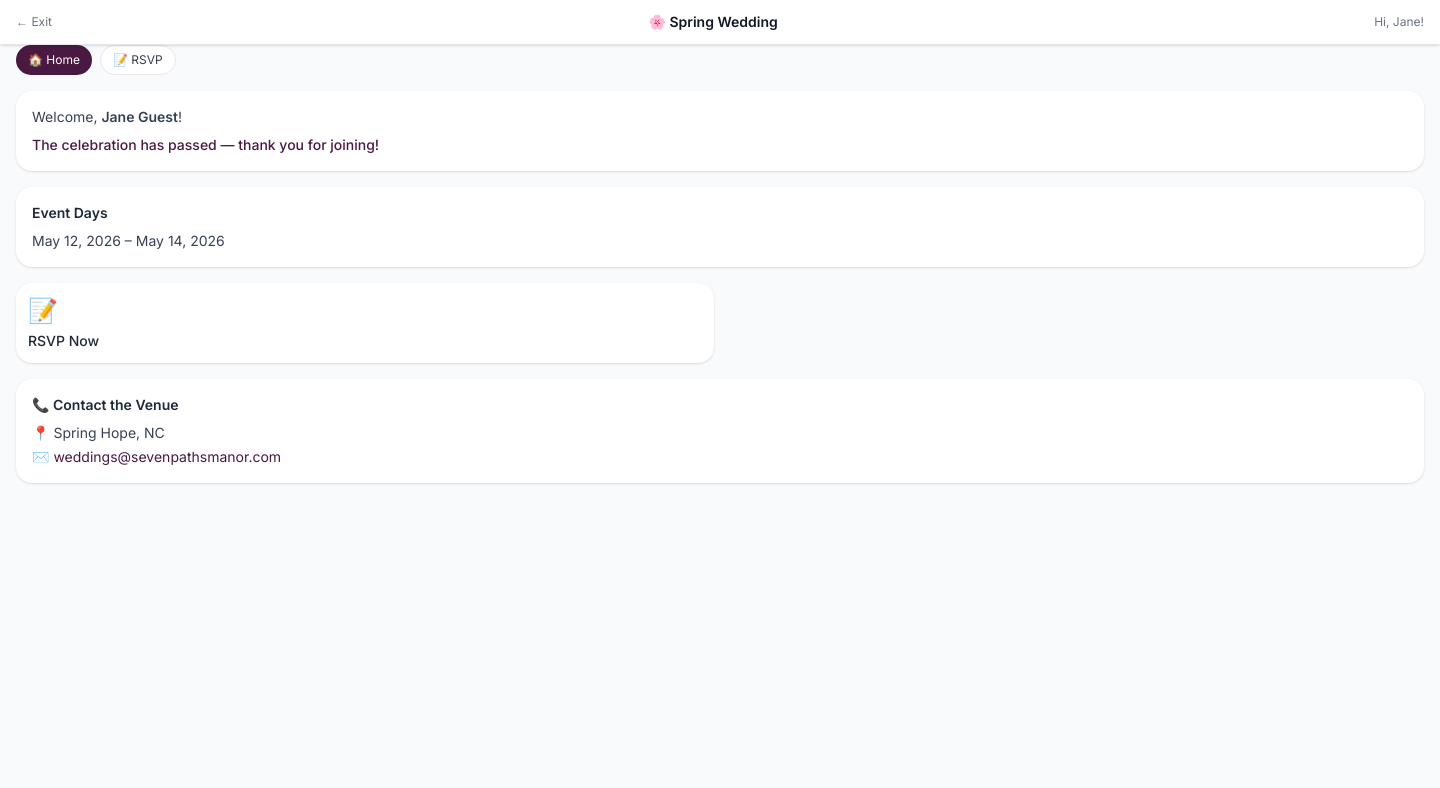
Scenario: GuestPortal multi-day attending-days › renders one attending-day checkbox per event day (multi-day)
The image size is (1440, 788).
Click the button "📝 RSVP Now". click: (64, 340)
box: [16,283,714,363]
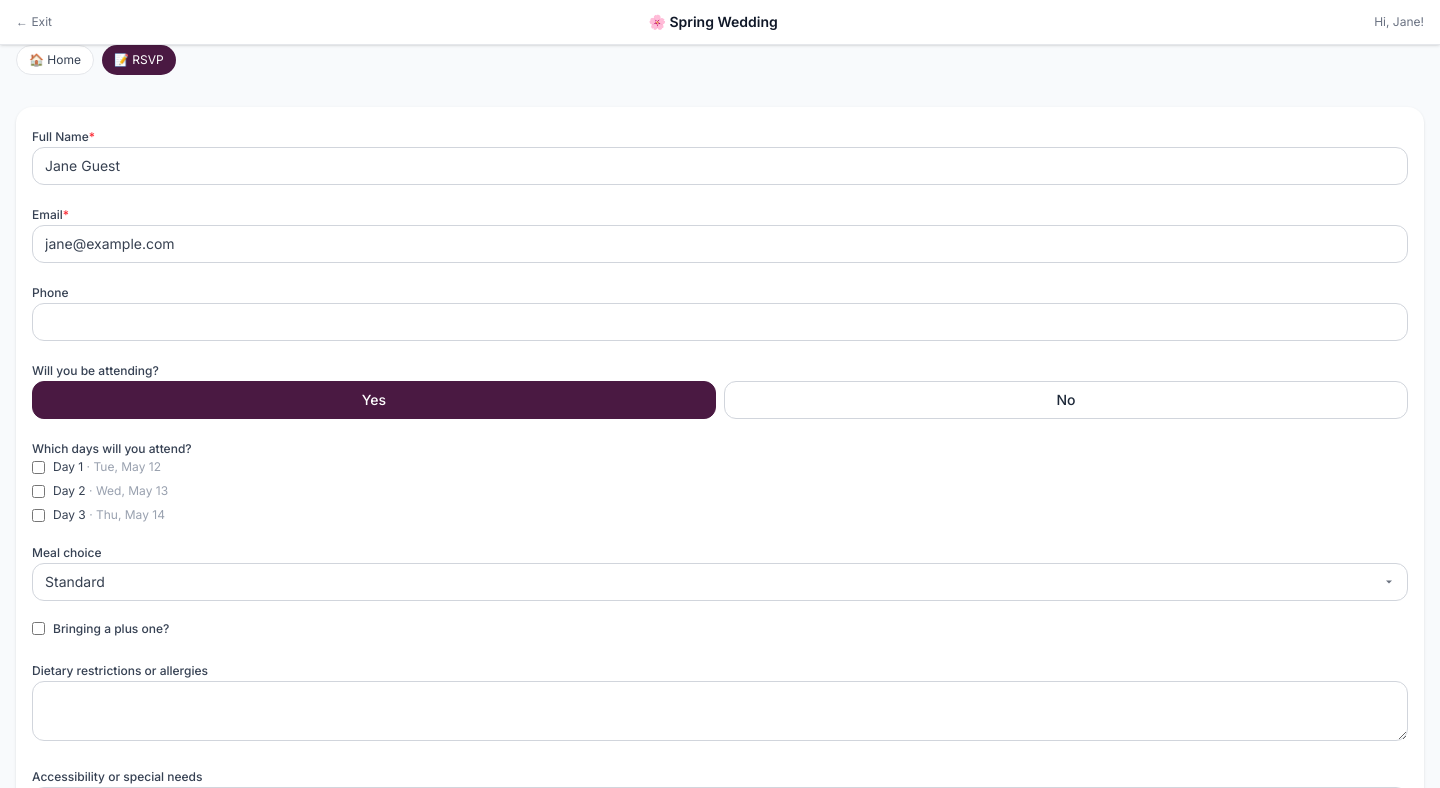
Result: the text "Which days will you attend?" is shown at [32,441,192,456]
Result: the number of checkboxes labelled "Day 1 · Tue, May 12" is 3 at [32,460,45,474]; [32,484,45,498]; [32,508,45,522]
